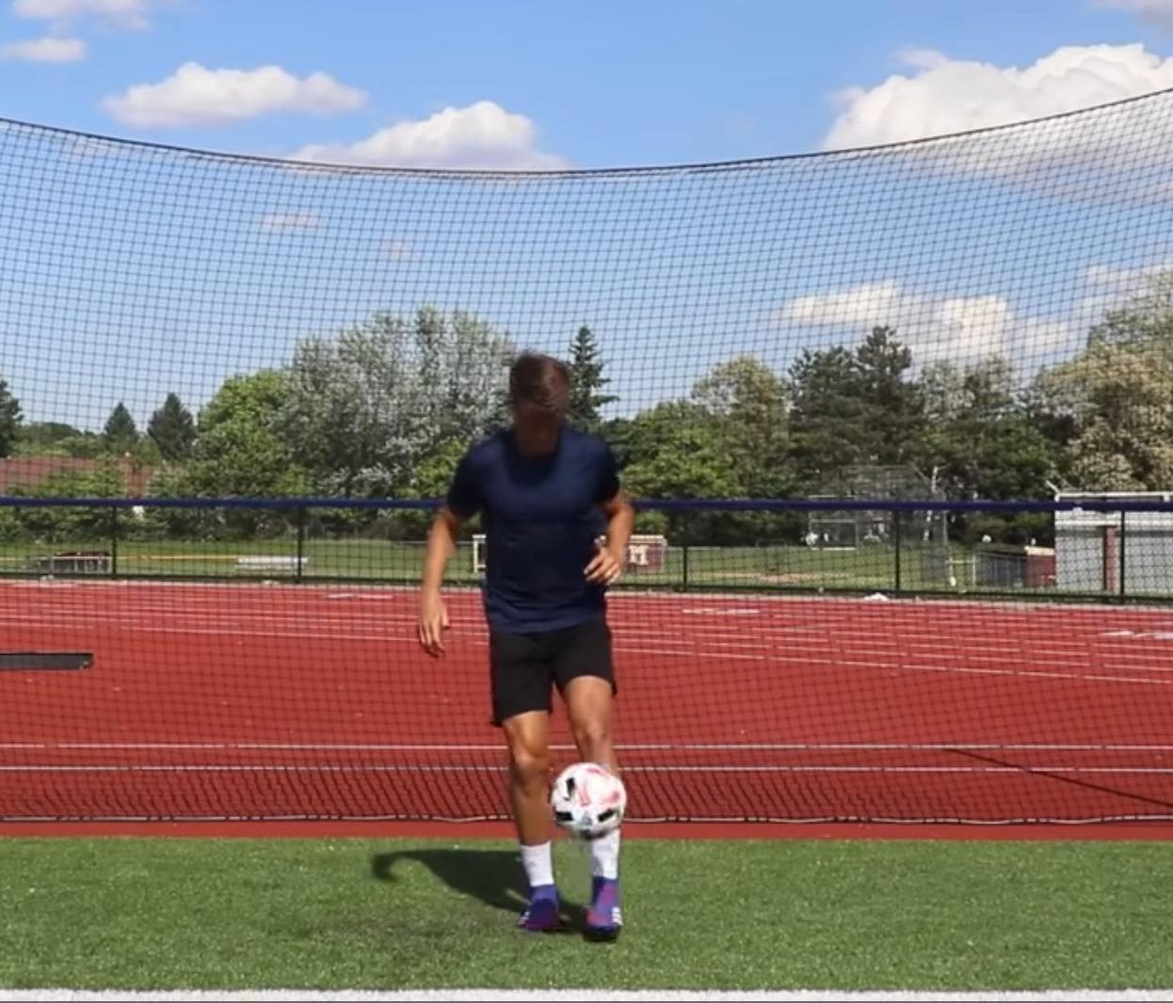ball: (550, 766, 625, 835)
foot: (584, 869, 625, 934), (520, 883, 562, 937)
person: (417, 354, 629, 939)
